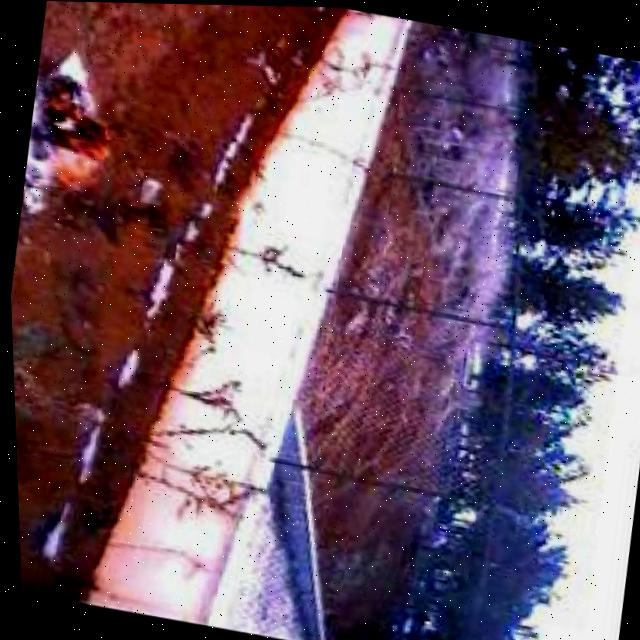Fire: (19, 61, 124, 201)
